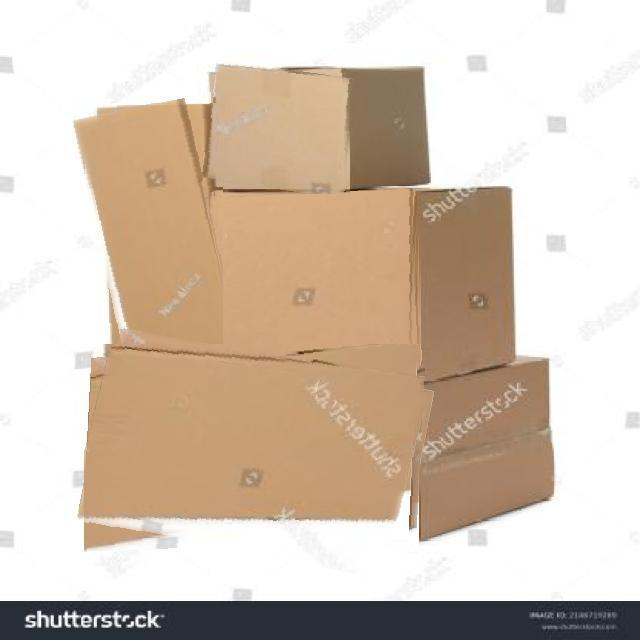BoxFace: (84, 344, 427, 567), (205, 191, 421, 387), (83, 103, 223, 369), (204, 63, 350, 194)
